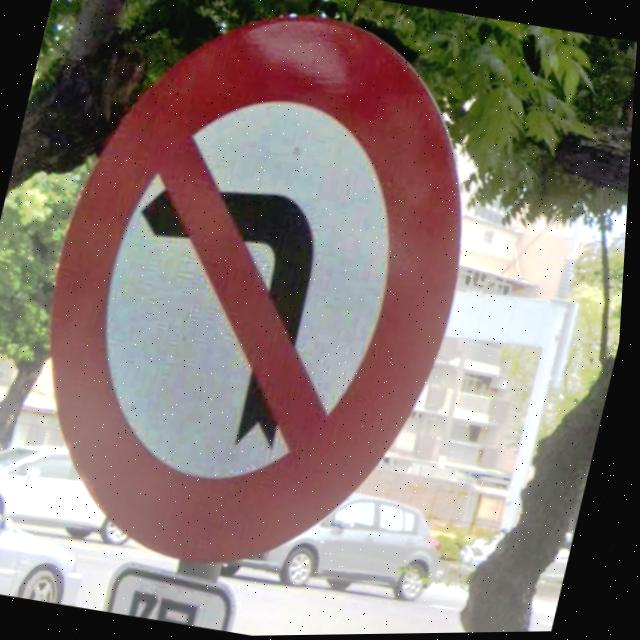noturnleft: (52, 16, 466, 563)
